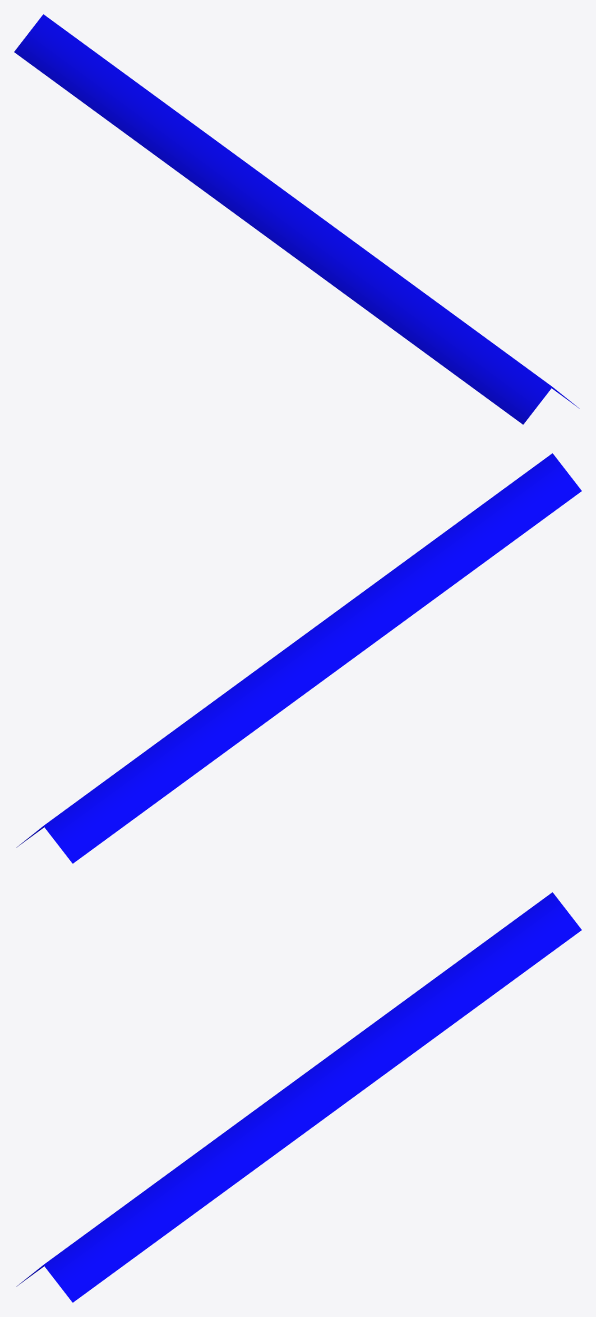
The model's file is SM_VentRidg.fbx.
3 renders of one model, top to bottom at view 1: azimuth 30°, elevation 25°; view 2: azimuth 150°, elevation 25°; view 3: azimuth 330°, elevation 25°, orthographic.
Parts seen in each view (by area): view 1: Cube; view 2: Cube; view 3: Cube.
Boxes of the visible parts, left/top/right/bottom form: Cube: left=14, top=14, right=579, bottom=424; Cube: left=16, top=453, right=581, bottom=863; Cube: left=16, top=892, right=581, bottom=1302.
Size of the model in its own units: 6.66 by 3.33 by 100.
